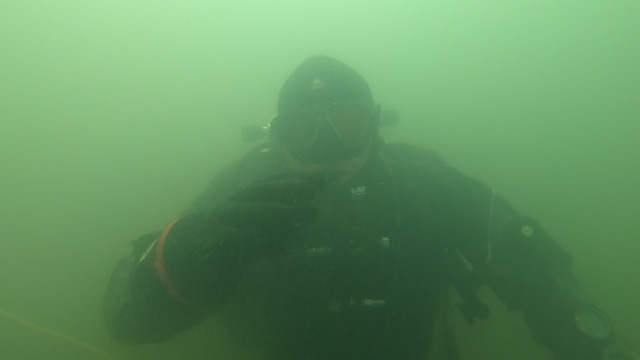Diver: (95, 45, 627, 352)
Hand: (200, 175, 331, 270)
Head: (253, 51, 396, 206)
